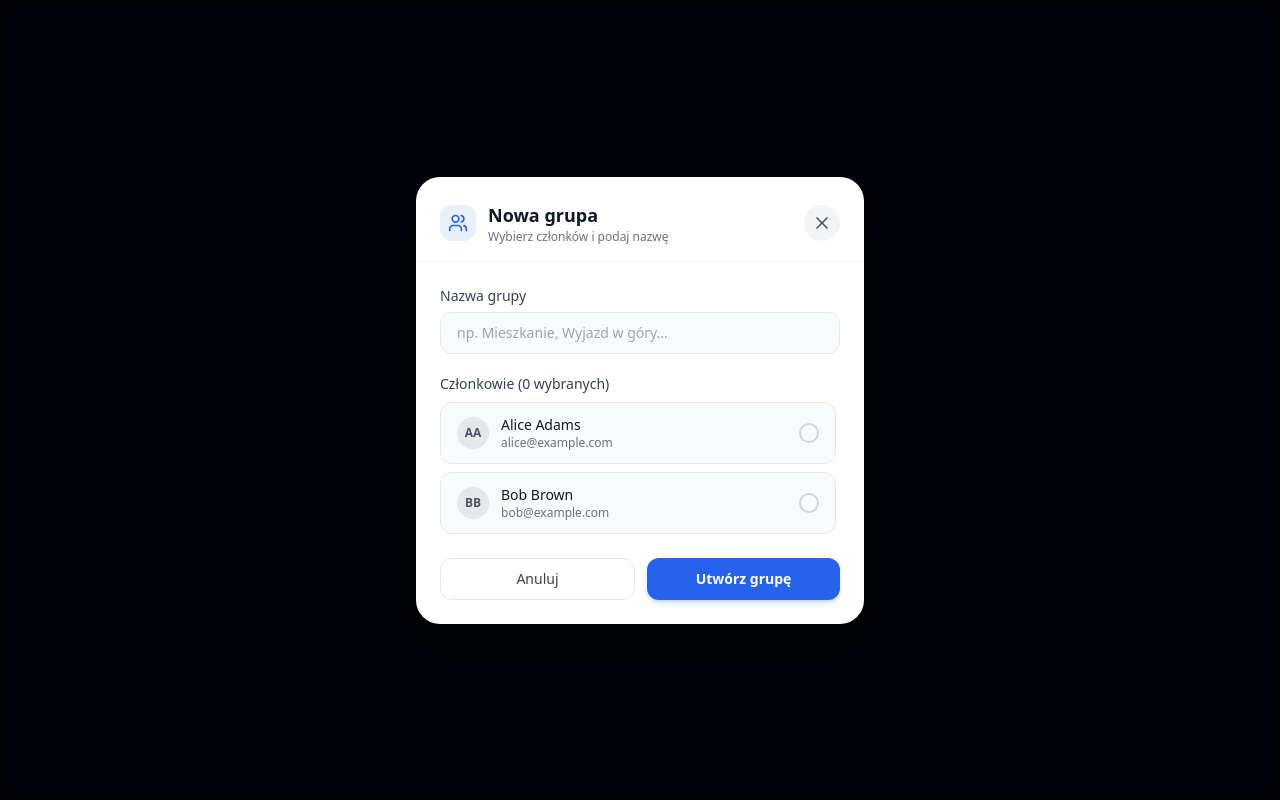
Test case: CreateGroupModal › shows error if no members selected
Type "Test Group" into the field with placeholder "np. Mieszkanie, Wyjazd w góry...". click: (640,332)
box: [440, 312, 840, 354]
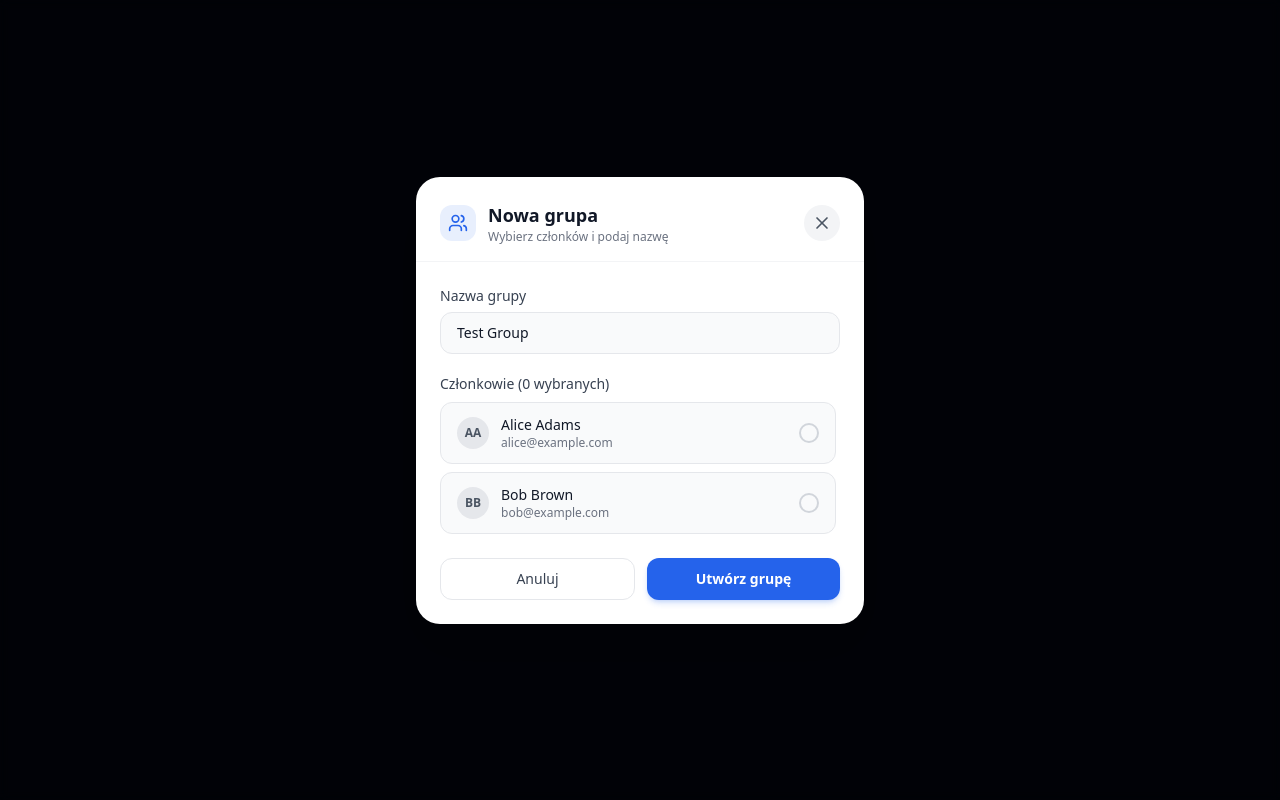
Click the button "Utwórz grupę". click: (744,578)
box: [647, 558, 840, 600]
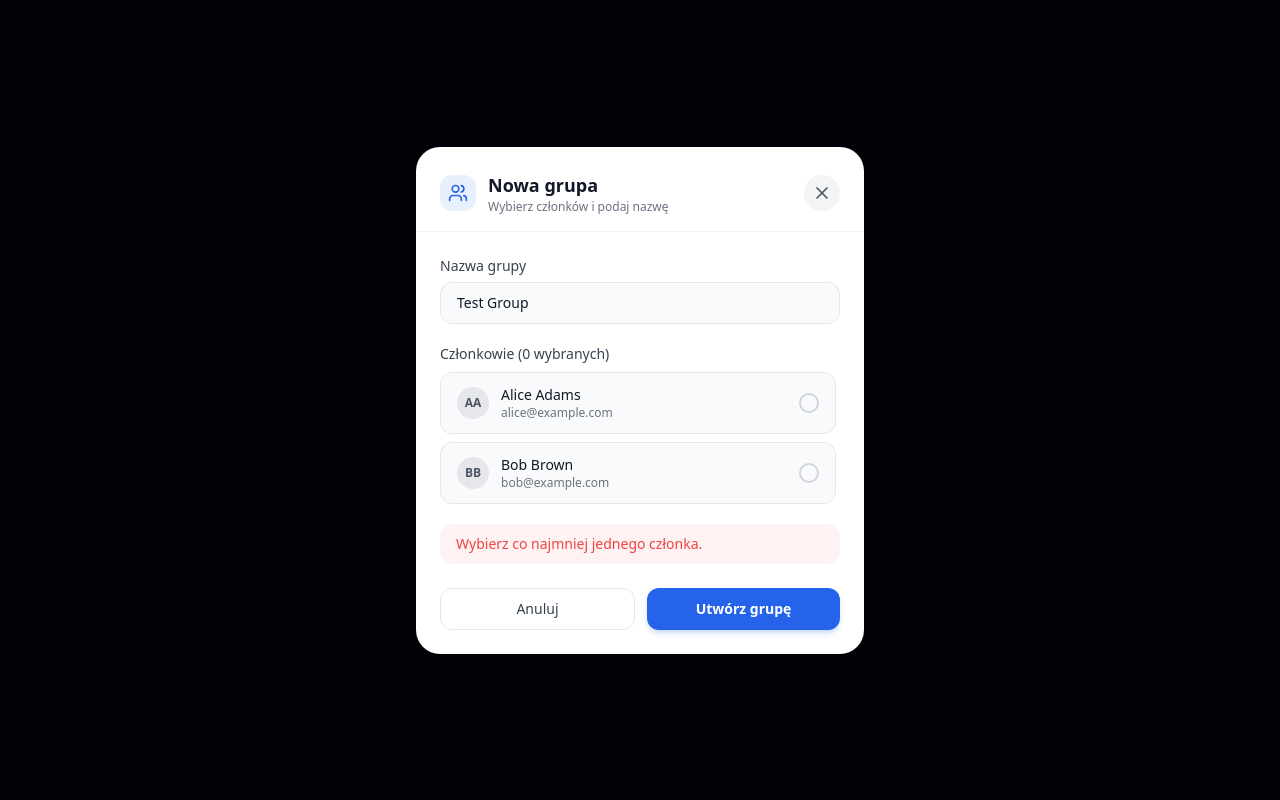
Expected: the text "Wybierz co najmniej jednego członka." is shown, [440, 524, 840, 564]
